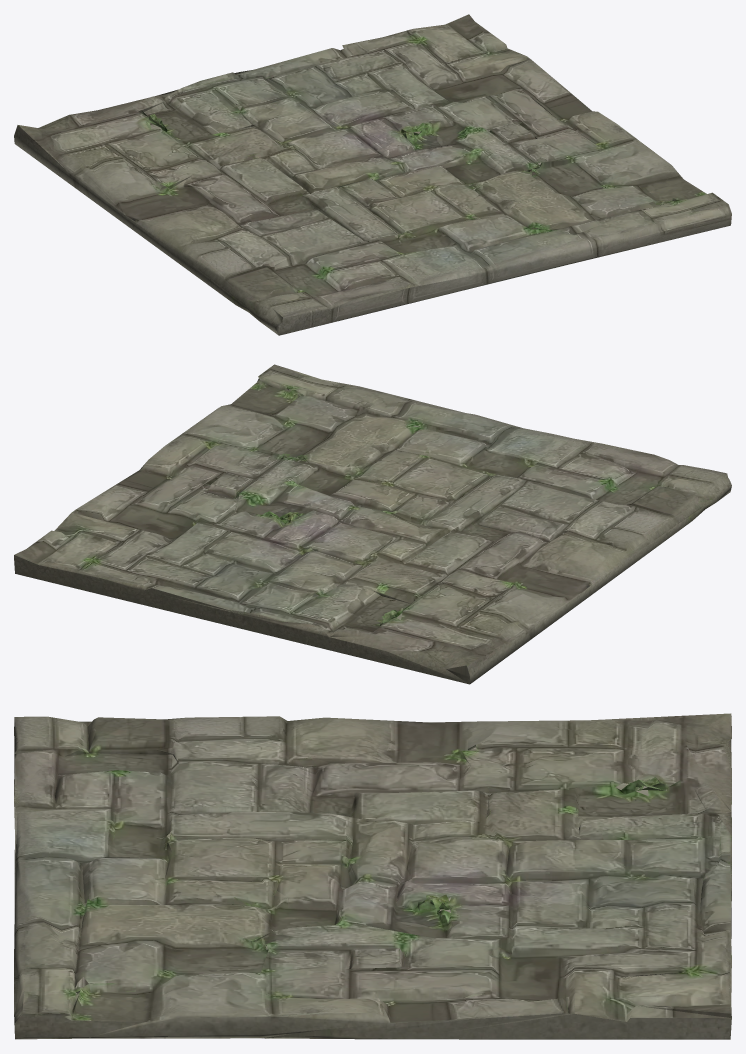
Rendered from blk_fortress_floor.glb.
The picture shows the model from 3 angles, top to bottom: view 1: azimuth 30°, elevation 25°; view 2: azimuth 150°, elevation 25°; view 3: azimuth 270°, elevation 25°; orthographic projection. The views are drawn at different scales.
Visible parts, largest first — view 1: Mesh_0; view 2: Mesh_0; view 3: Mesh_0.
Boxes of the visible parts, box(x1,y1,x2,y2) form: Mesh_0: box(14, 14, 731, 335); Mesh_0: box(14, 364, 731, 684); Mesh_0: box(14, 713, 731, 1039).
Bounding box in the file's own units: 1.9 × 0.0958 × 1.9.
Materials: 1 (1 with a texture image).
